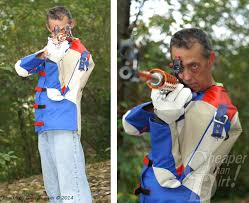Gun: (119, 53, 178, 91)
